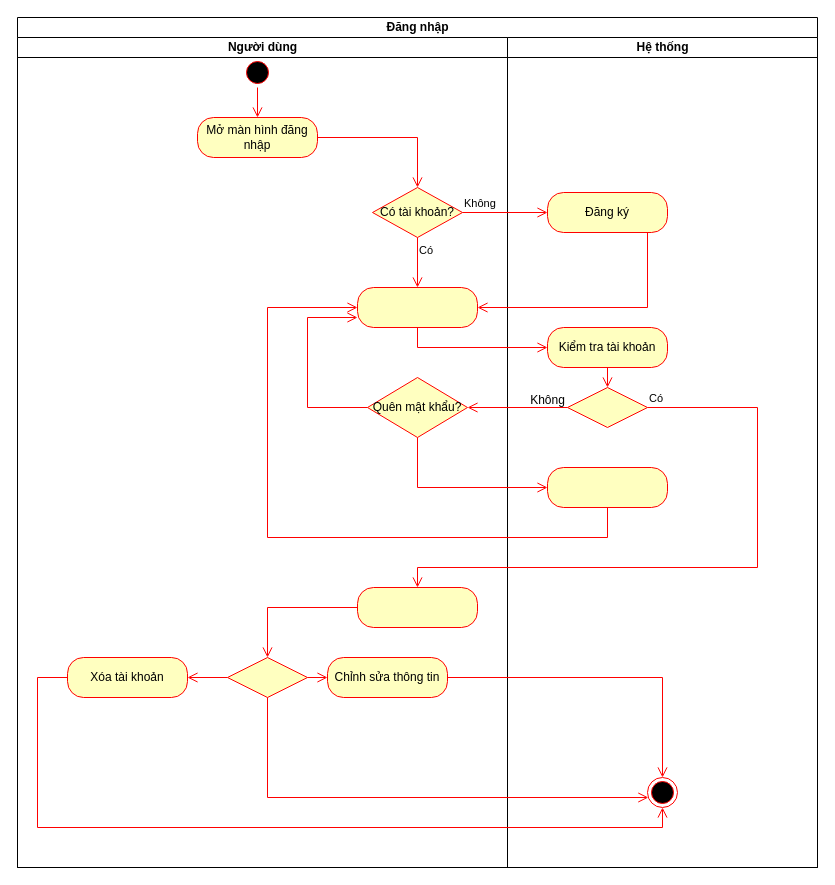
Some shapes in this 835 by 885 pixel diagram are drawn without their labels. The centre of each missing label's shape, as x and y in pixels:
"Condition" goes at (267,677).
"Cấp lại mật khẩu" goes at (607,487).
"Hợp lệ?" goes at (607,407).
"Nhập thông tin tài khoản" goes at (417,307).
"Đăng nhập thành công" goes at (417,607).
